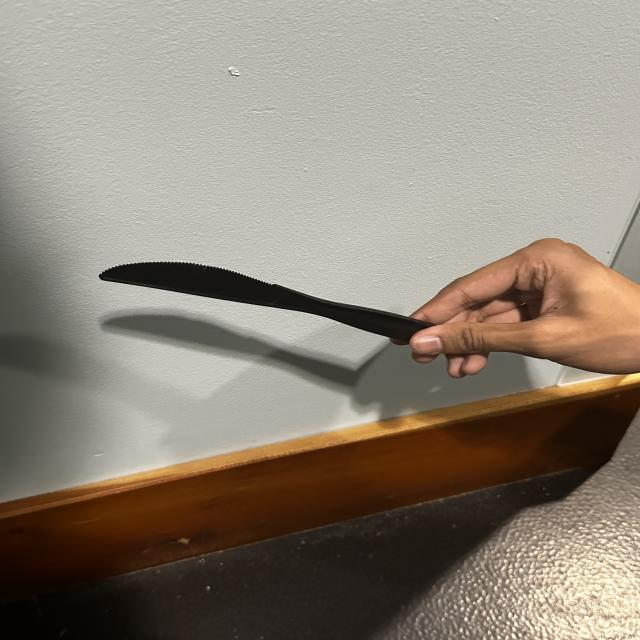knife: (59, 216, 454, 368)
